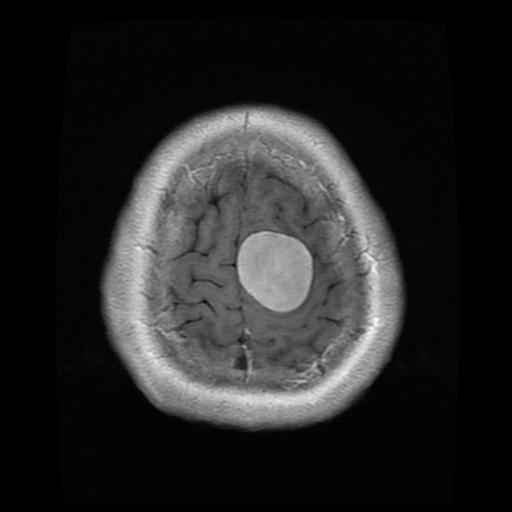Menigiomia_tumour: (238, 230, 312, 311)
